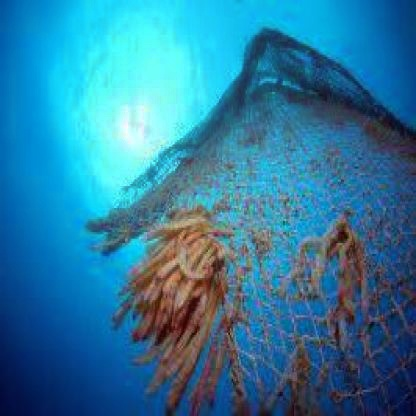net: (176, 76, 416, 409)
